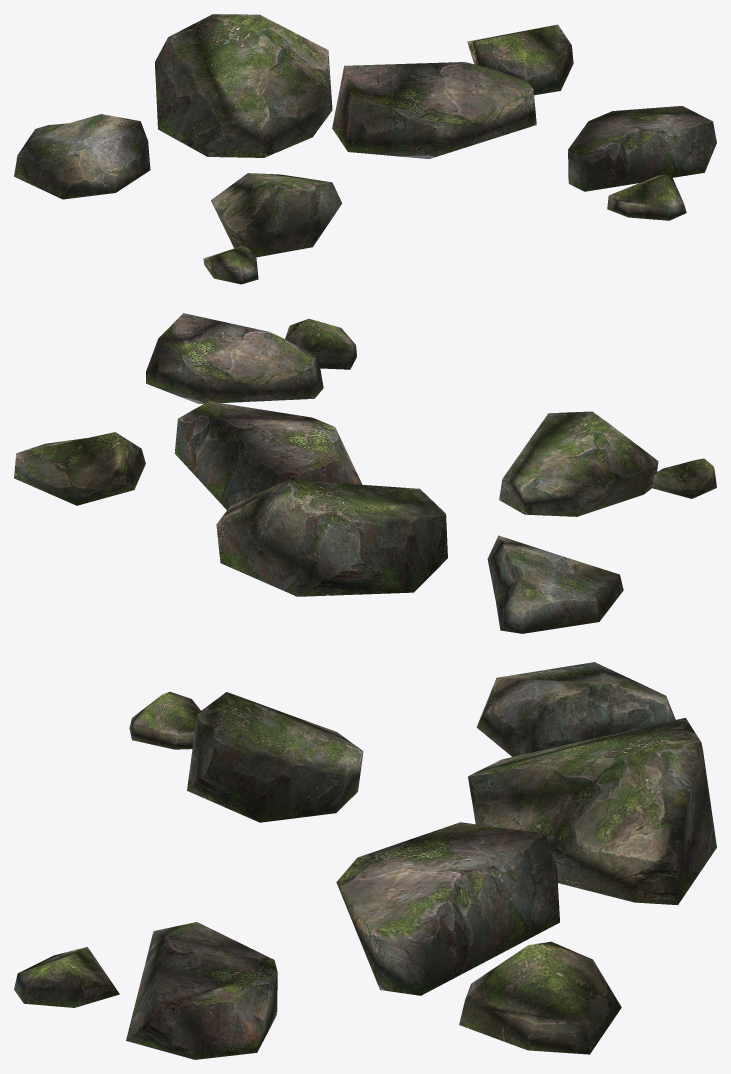
The model's file is Rock02_lod1.glb.
3 views of the same model, one above another, from view 1: azimuth 30°, elevation 25°; view 2: azimuth 150°, elevation 25°; view 3: azimuth 270°, elevation 25° (orthographic). The views are drawn at different scales.
Visible parts, largest first — view 1: common_rock_02_lod01; view 2: common_rock_02_lod01; view 3: common_rock_02_lod01.
Part boxes in pixels (bbox=[...]): common_rock_02_lod01: bbox=[14, 14, 716, 284]; common_rock_02_lod01: bbox=[14, 313, 716, 633]; common_rock_02_lod01: bbox=[14, 662, 716, 1059].
Bounding box in the file's own units: 3.43 × 0.4952 × 2.74.
1 material, 1 textured.
